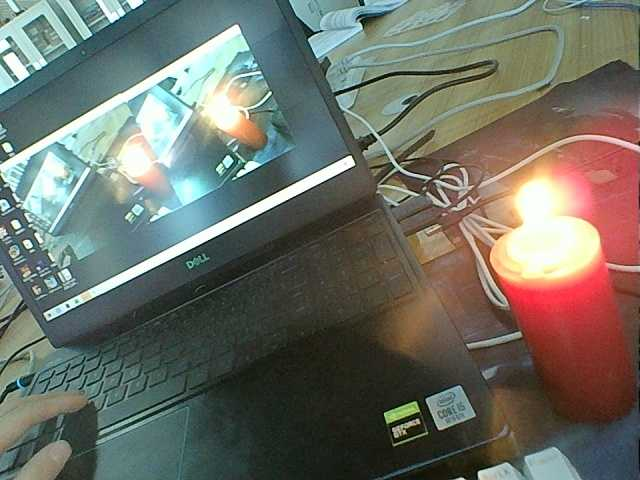candle: (494, 245, 635, 421), (126, 167, 167, 208), (226, 122, 268, 150)
fire: (505, 172, 586, 270), (116, 144, 152, 175), (210, 95, 241, 130)
